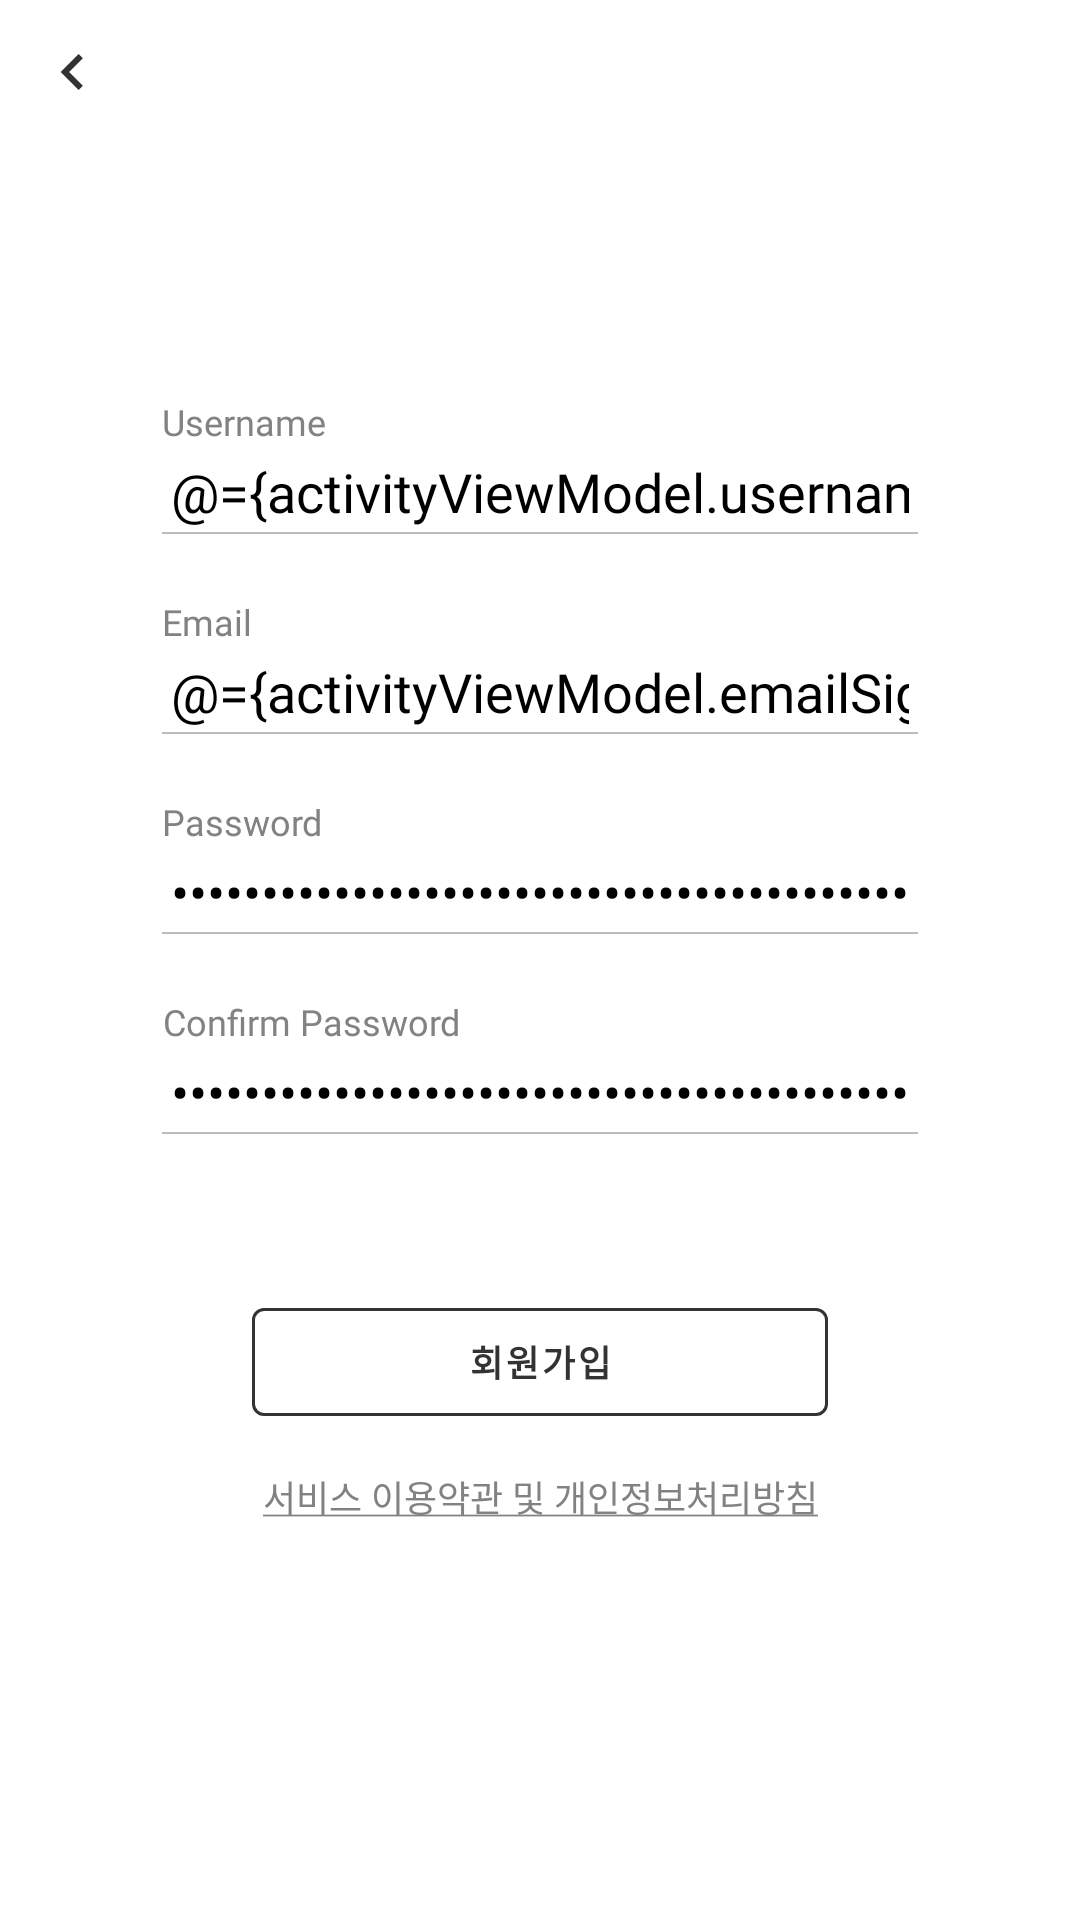

Named icons in this screenshot (1080×1920) and their centers, (x=x, y=y):
navigate before: (x=72, y=72)
